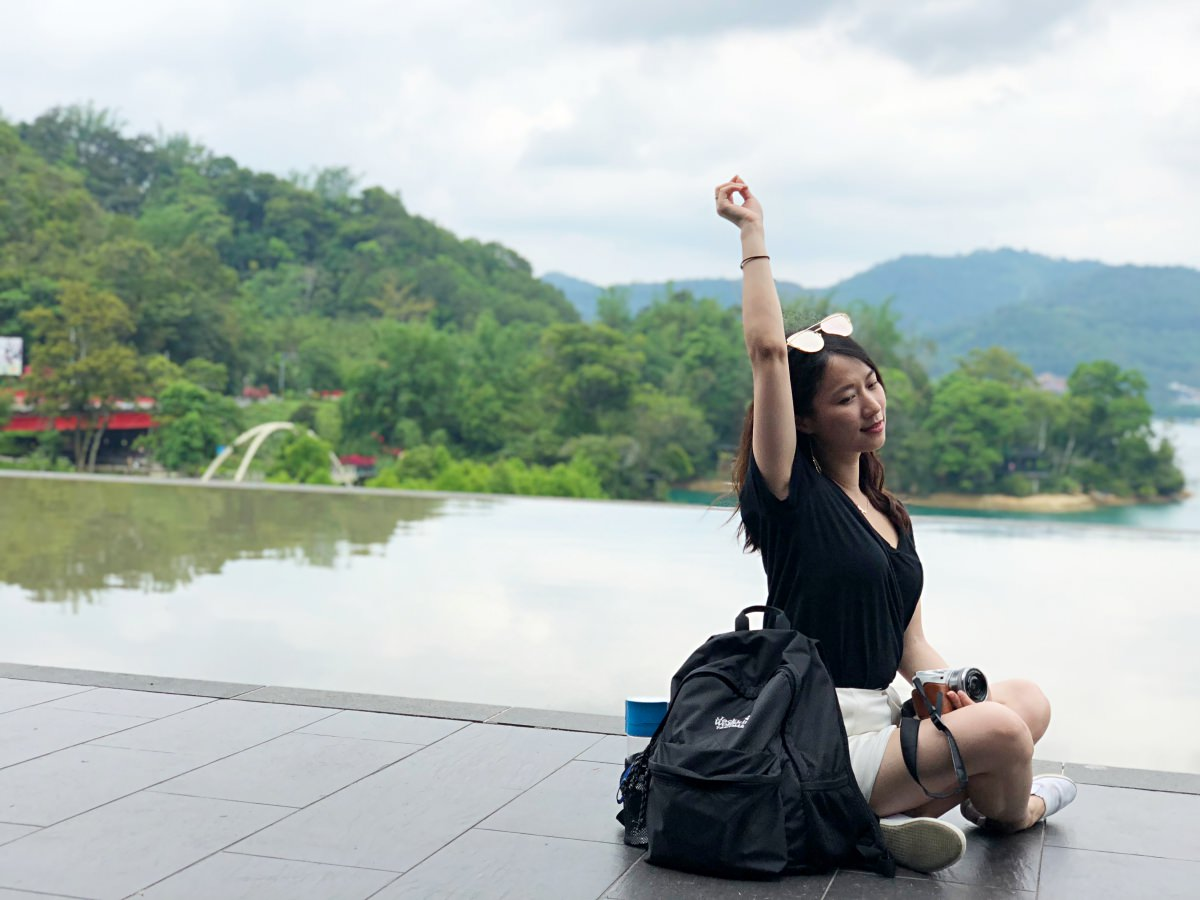people: (692, 326, 1078, 867)
